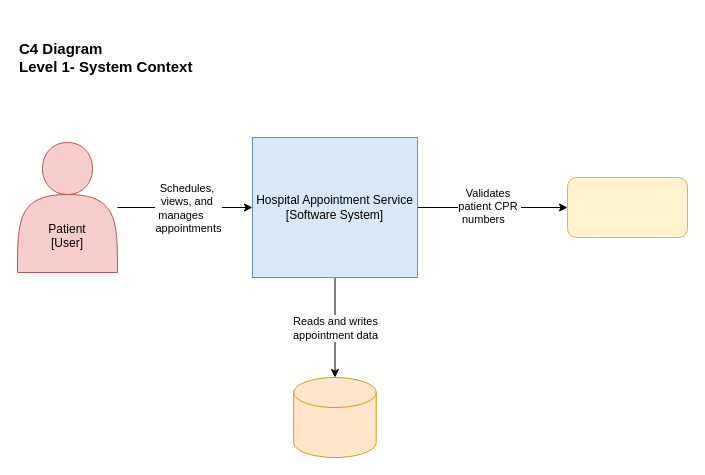
The diagram is 705 pixels wide and 475 high, and some of its shapes have lost their labels. Here are the shapes that lost their labels. From the top down, the centre of each, then its label:
(627,207): National Registry [External System]
(334,417): Database [Data Store]
